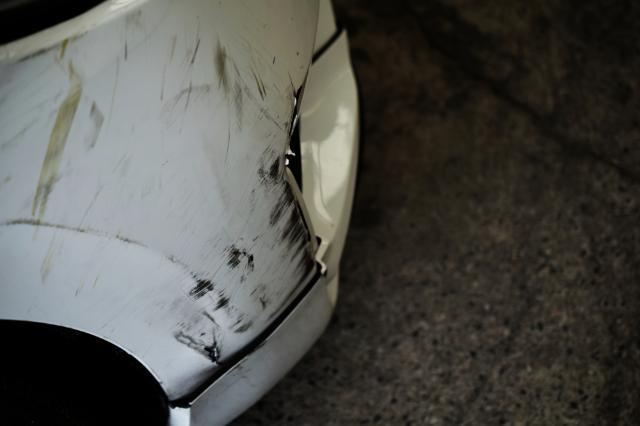scratch: (0, 11, 322, 368)
